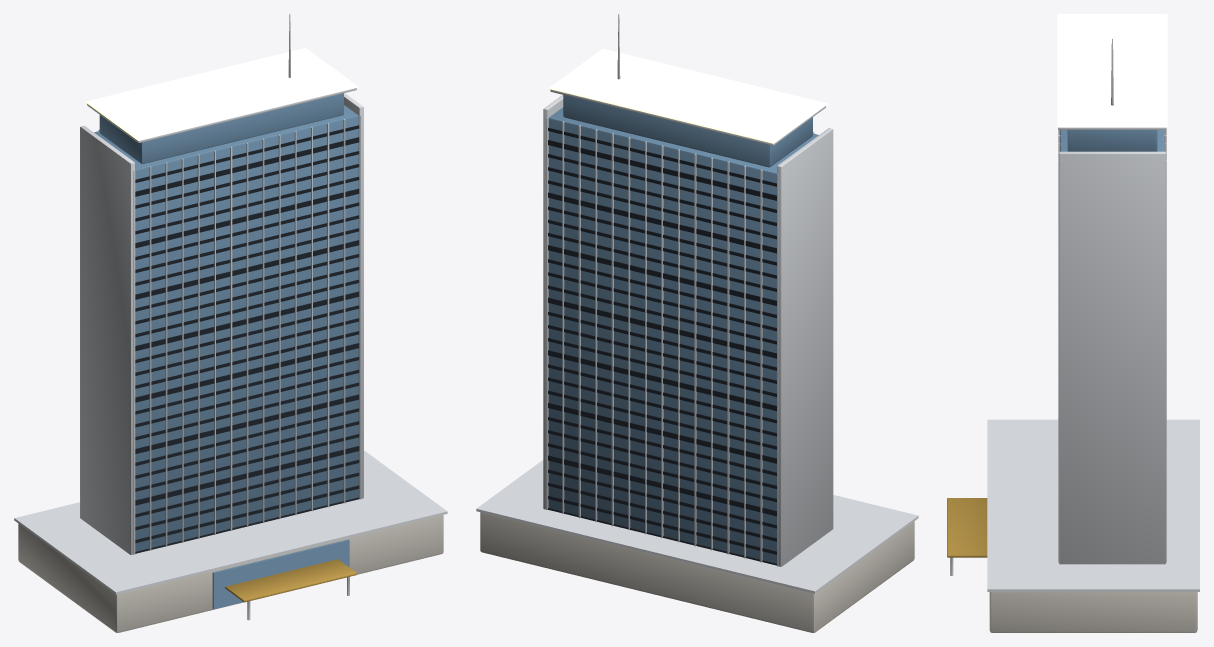
Rendered from hotel-tokyo.glb.
The picture shows the model from 3 angles, left to right: view 1: azimuth 30°, elevation 25°; view 2: azimuth 150°, elevation 25°; view 3: azimuth 270°, elevation 25°; orthographic projection. The views are drawn at different scales.
Visible parts, largest first — view 1: LOD0_Facade, LOD0_Fin, LOD0_Spandrel, LOD0_CrownGlow, LOD0_Stone, LOD1_Facade, LOD1_Spandrel, LOD0_Accent; view 2: LOD0_Facade, LOD0_Fin, LOD0_Spandrel, LOD0_Stone, LOD0_CrownGlow, LOD1_Spandrel; view 3: LOD0_Fin, LOD0_CrownGlow, LOD0_Stone, LOD0_Accent, LOD0_Facade.
Part boxes in pixels (box(x1,y1,x2,y2)): LOD0_Facade: box(94, 93, 358, 608); LOD0_Fin: box(14, 14, 447, 620); LOD0_Spandrel: box(135, 125, 359, 543); LOD0_CrownGlow: box(85, 48, 358, 140); LOD0_Stone: box(18, 515, 443, 632); LOD1_Facade: box(97, 116, 358, 482); LOD1_Spandrel: box(135, 137, 359, 553); LOD0_Accent: box(225, 559, 357, 602); LOD0_Facade: box(548, 95, 818, 563); LOD0_Fin: box(476, 14, 918, 593); LOD0_Spandrel: box(548, 127, 776, 554); LOD0_Stone: box(480, 512, 914, 632); LOD0_CrownGlow: box(549, 48, 827, 143); LOD1_Spandrel: box(548, 140, 776, 565); LOD0_Fin: box(950, 38, 1199, 591); LOD0_CrownGlow: box(1057, 14, 1167, 127); LOD0_Stone: box(989, 592, 1197, 632); LOD0_Accent: box(947, 498, 987, 557); LOD0_Facade: box(1060, 130, 1164, 151).
Size of the model in its own units: 85 by 128 by 53.5.
